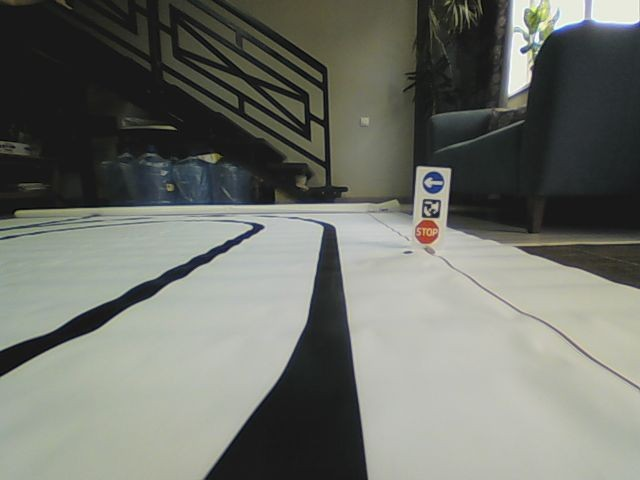Stop: (414, 219, 439, 244)
